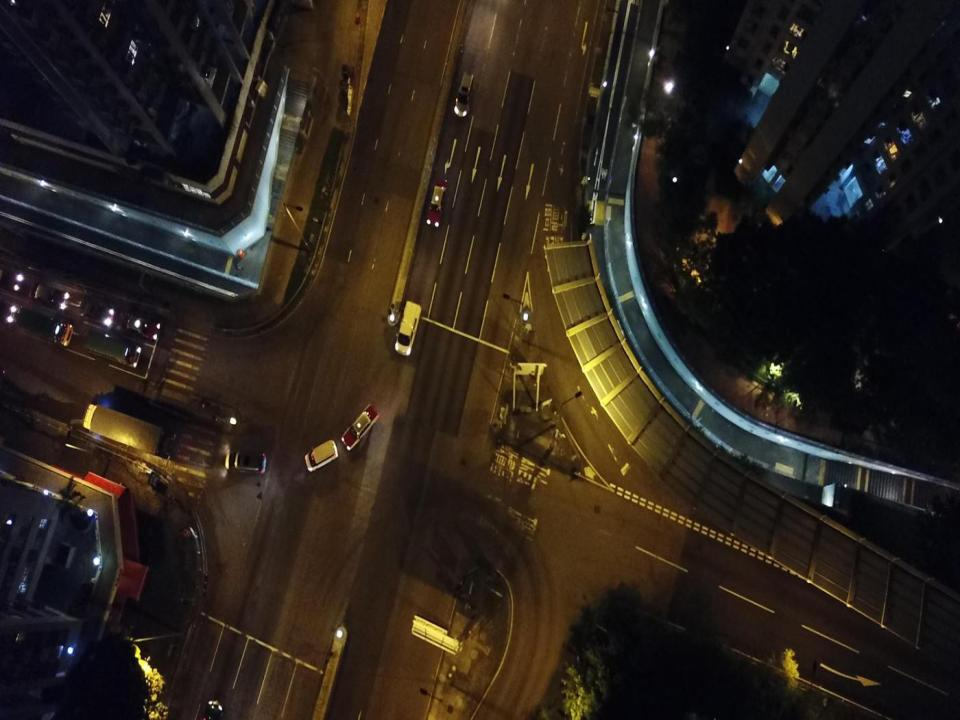bus: (83, 328, 143, 369), (14, 307, 75, 347)
car: (341, 402, 380, 452), (394, 300, 422, 357), (114, 312, 162, 342), (426, 174, 448, 228), (304, 439, 338, 473), (224, 450, 267, 476), (33, 282, 71, 310), (80, 300, 115, 330), (453, 70, 475, 117), (0, 267, 24, 293)
truck: (81, 402, 177, 461)
